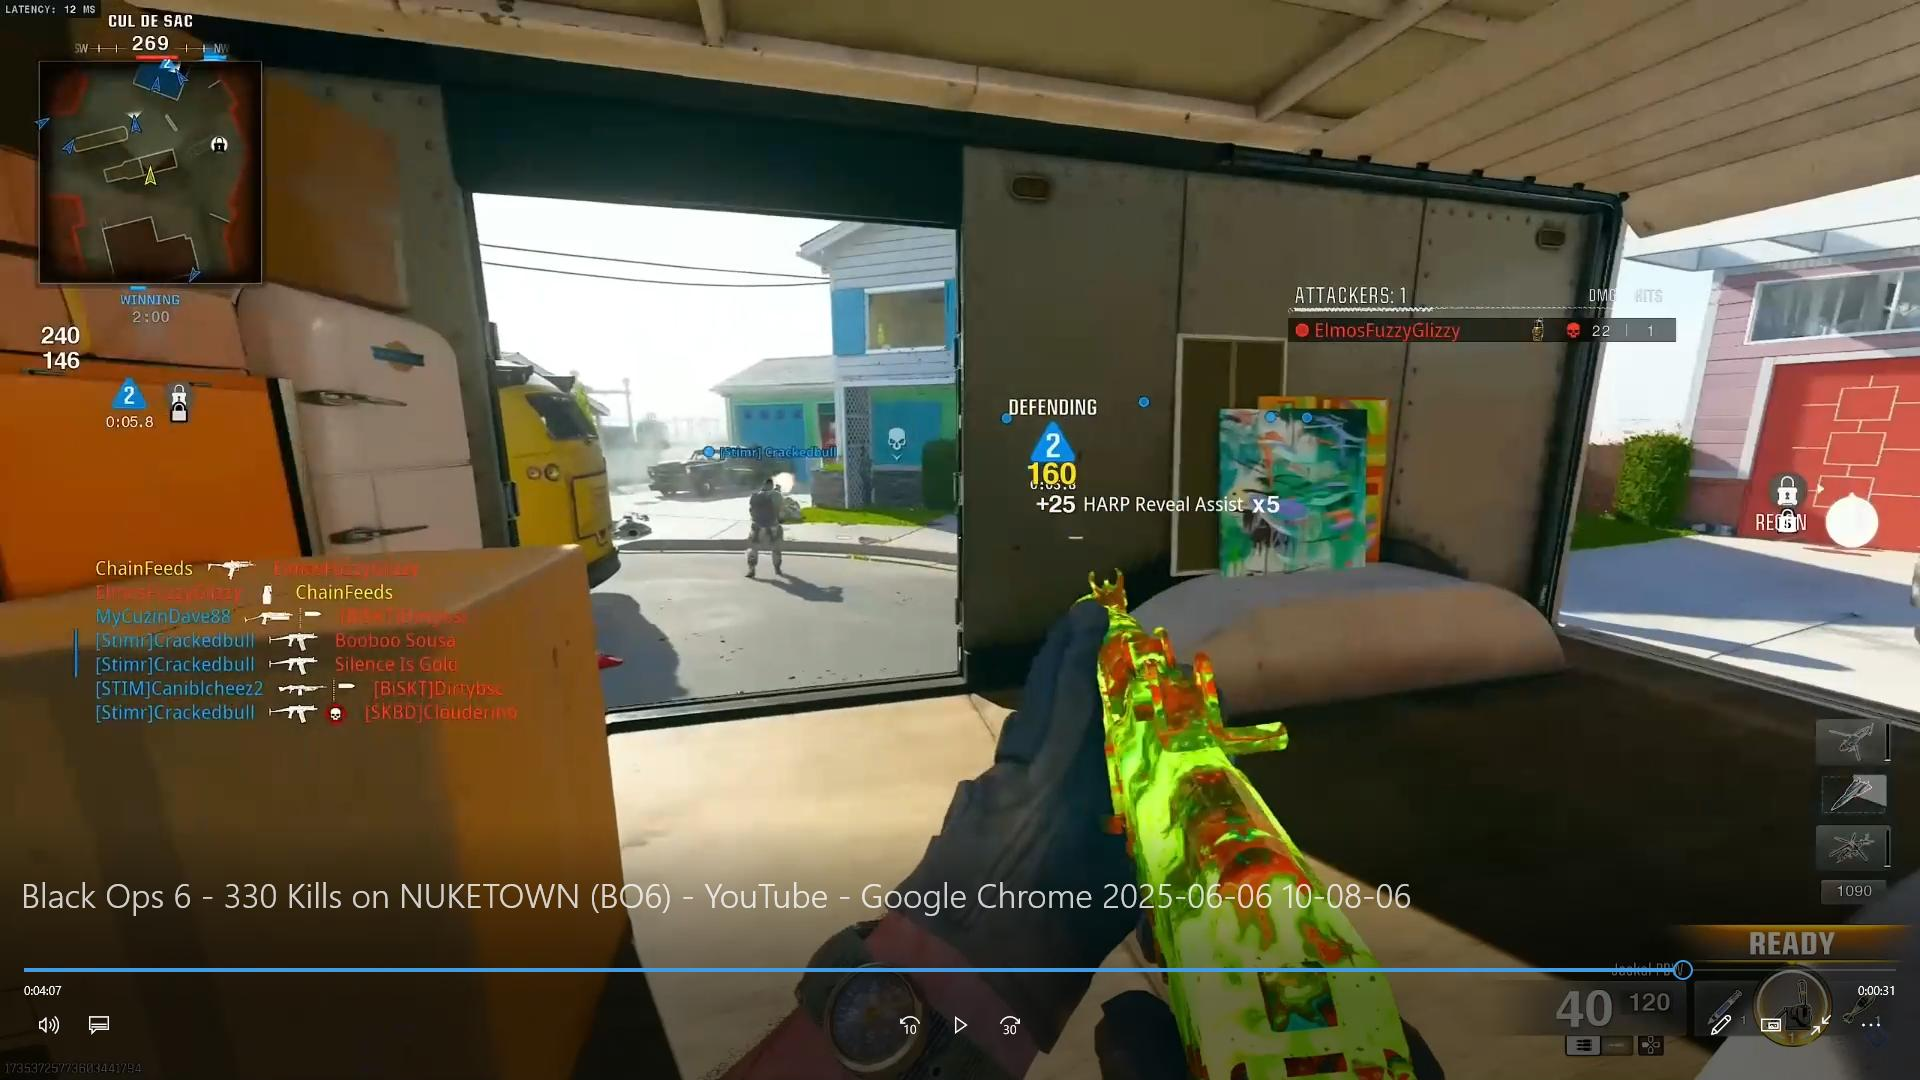Enemy: (732, 468, 803, 583)
